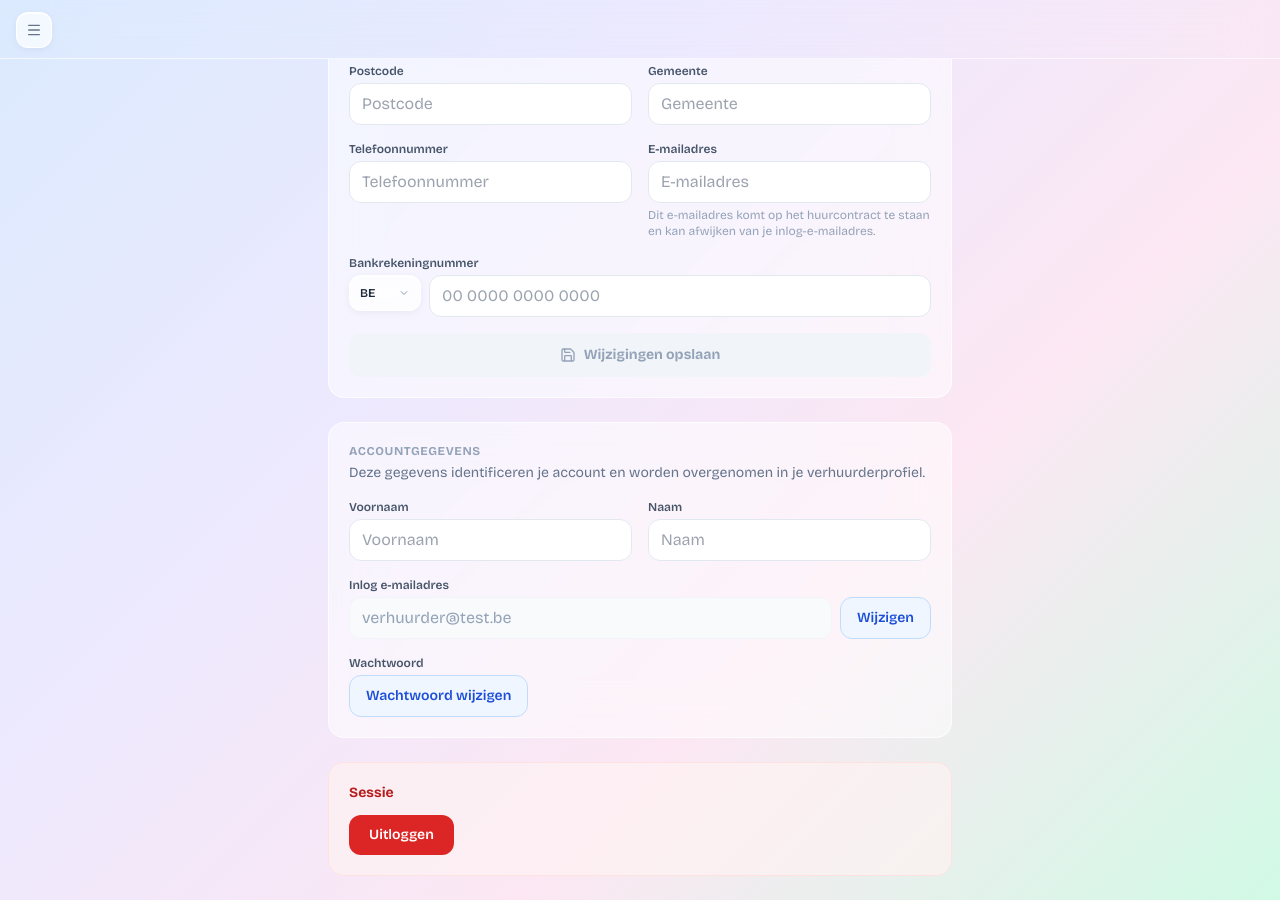
AccountPage › toont bewerkingsveld na klikken op e-mailadres Wijzigen
(page scrolled)
Click the button "Wijzigen": (886, 618) [840,597,931,639]
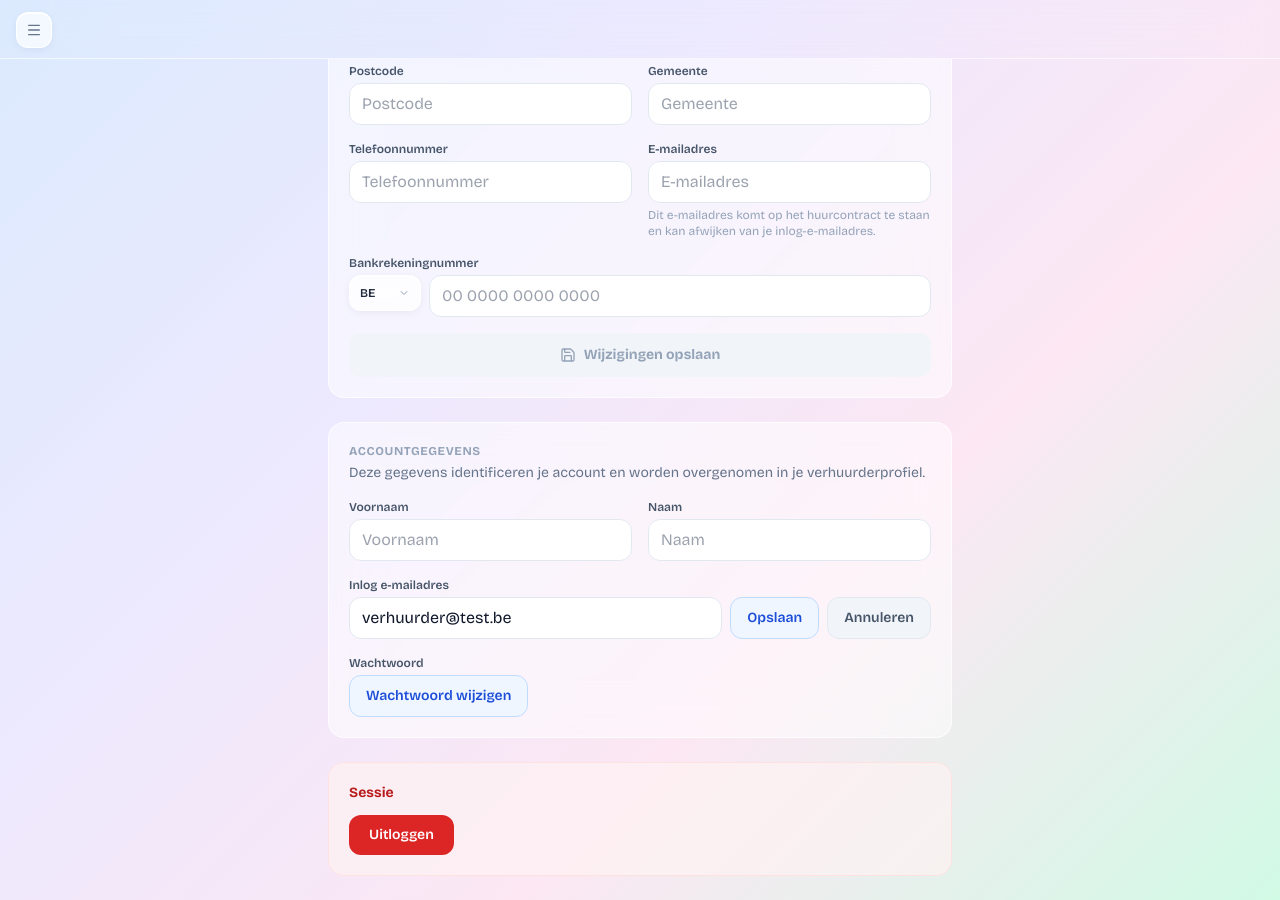
Result: the field named "Nieuw e-mailadres" is shown at [349,597,722,639]
Result: the button "Opslaan" is shown at [730,597,819,639]
Result: the button "Annuleren" is shown at [827,597,931,639]
